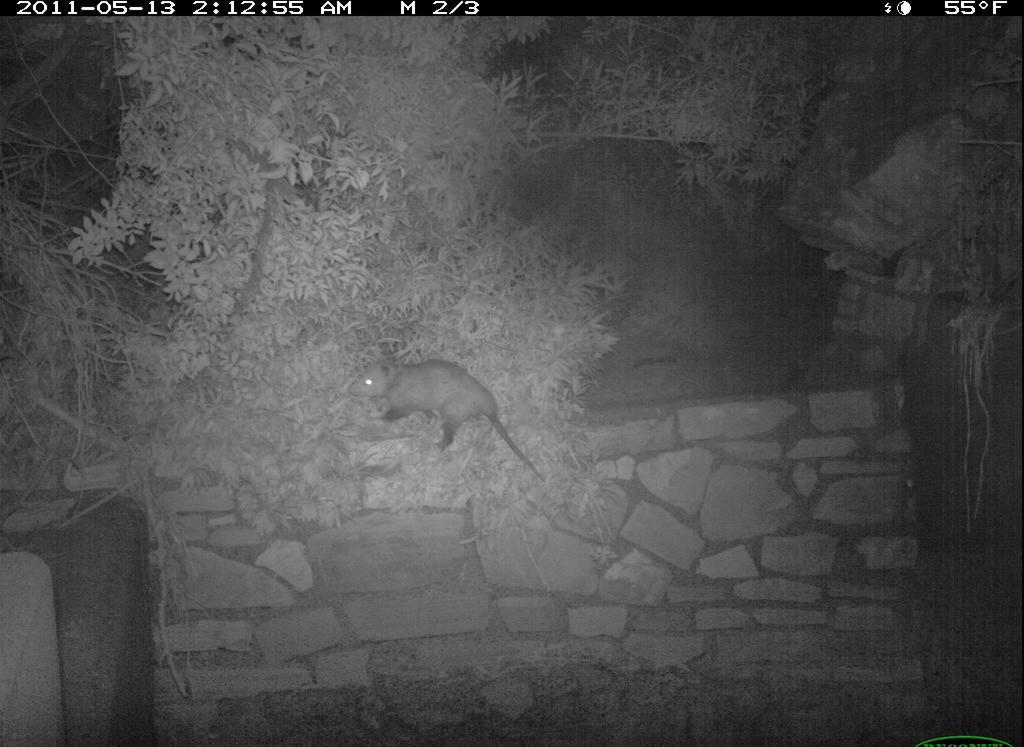opossum: (329, 341, 588, 510)
